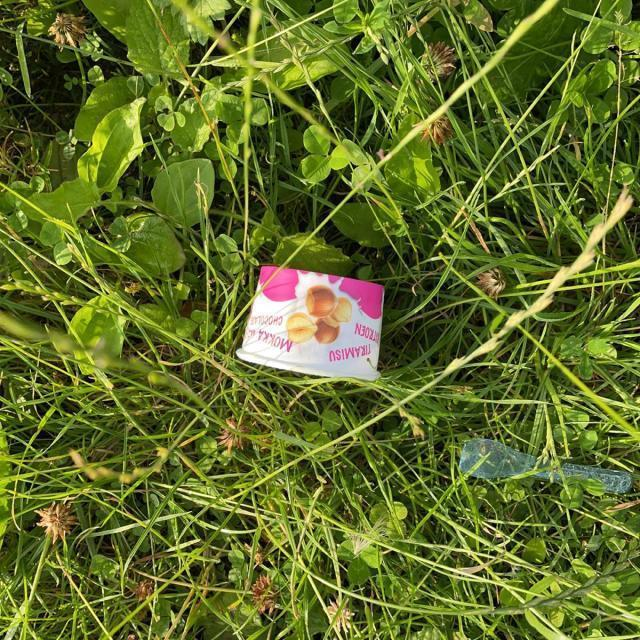Paper: (234, 264, 386, 386)
